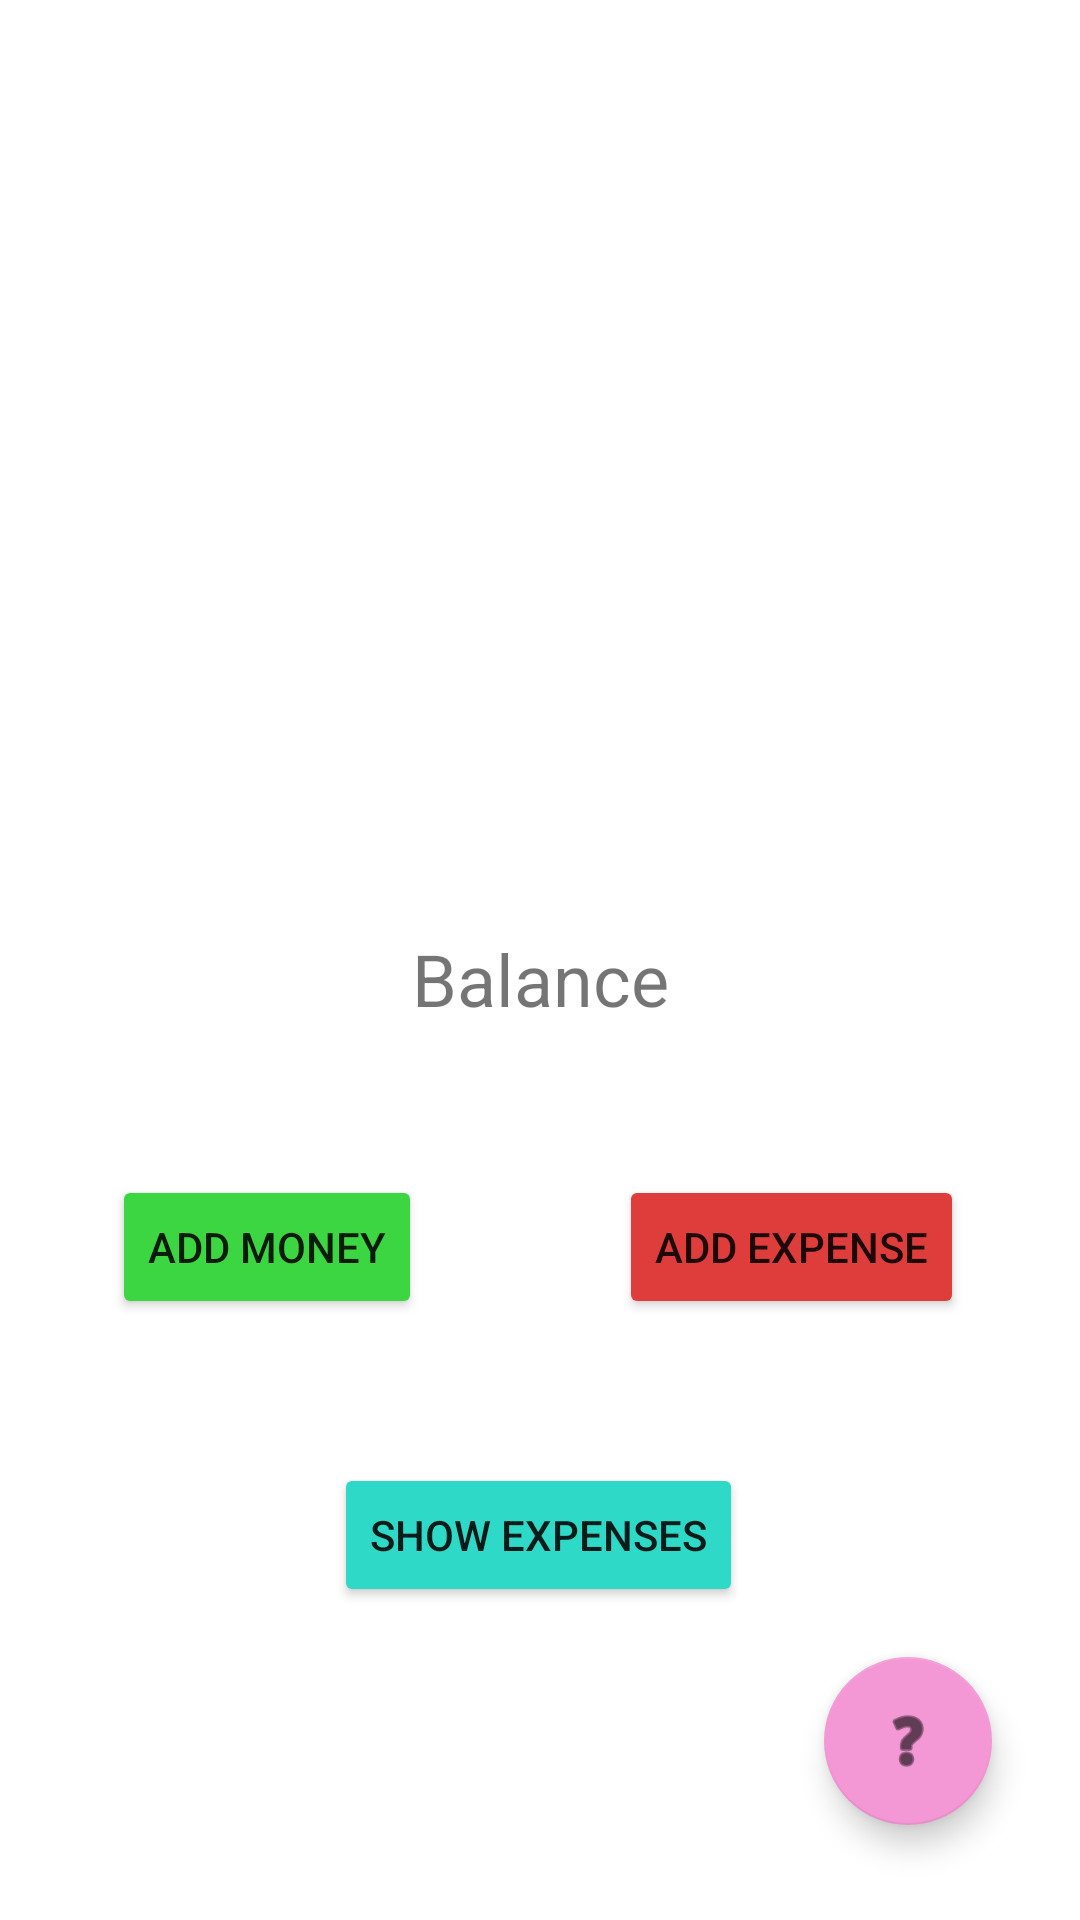

Icons on this 1080×1920 Android screen, each with its box as box=[x1, y1, x2, y2]:
help: box=[824, 1657, 992, 1825]
